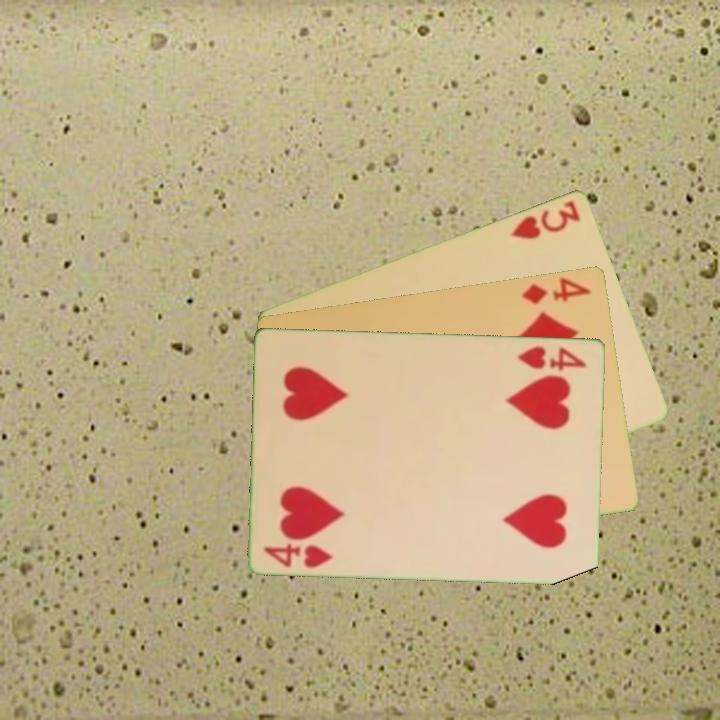3h: (507, 196, 584, 242)
4d: (519, 273, 594, 307)
4h: (514, 342, 590, 374), (260, 539, 336, 571)
